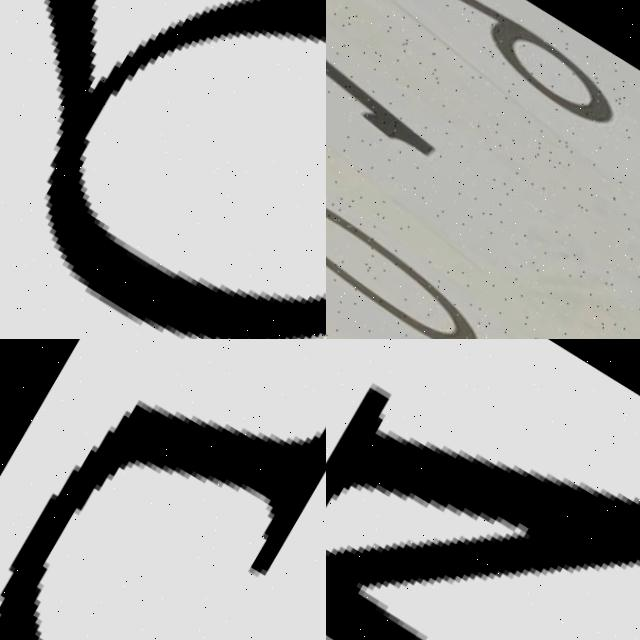0: (326, 161, 513, 339)
1: (326, 9, 459, 171)
9: (366, 0, 640, 142)
G: (0, 339, 326, 640)
M: (326, 339, 640, 640)
Q: (0, 0, 326, 339)
